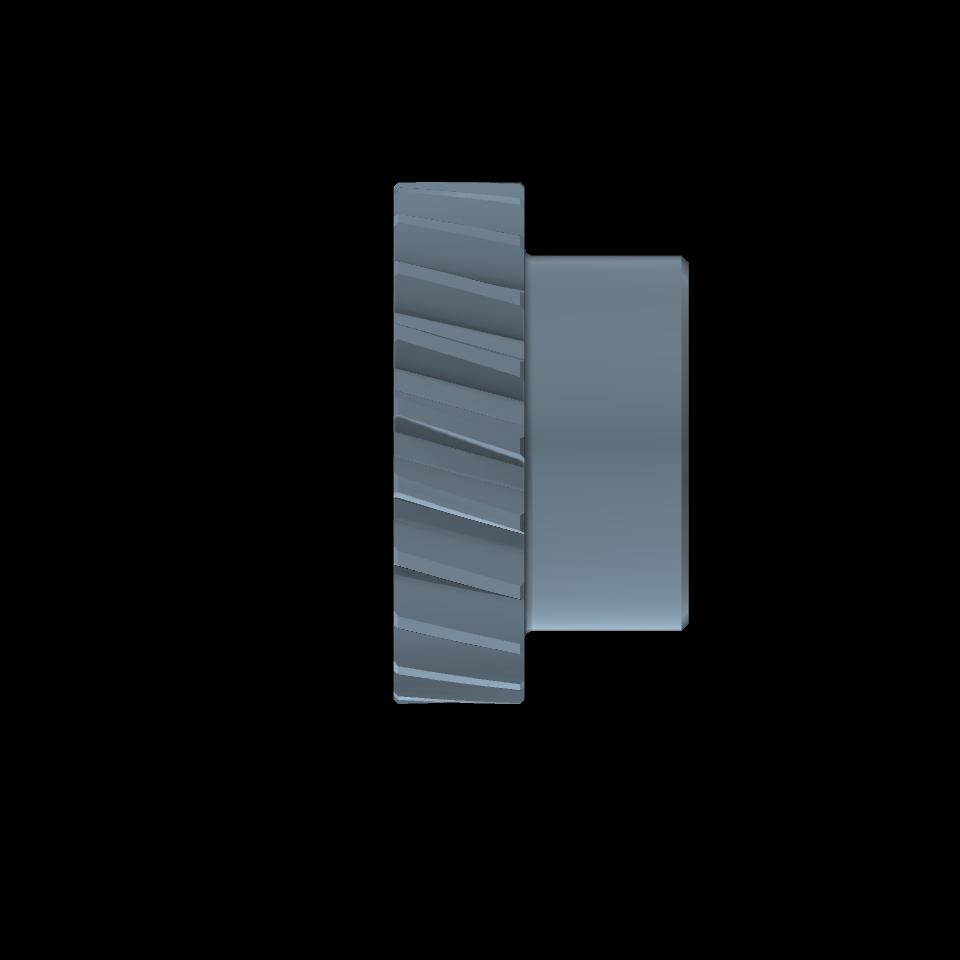Helical: (398, 183, 518, 702)
